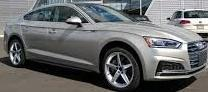Cars: (5, 4, 208, 92)
